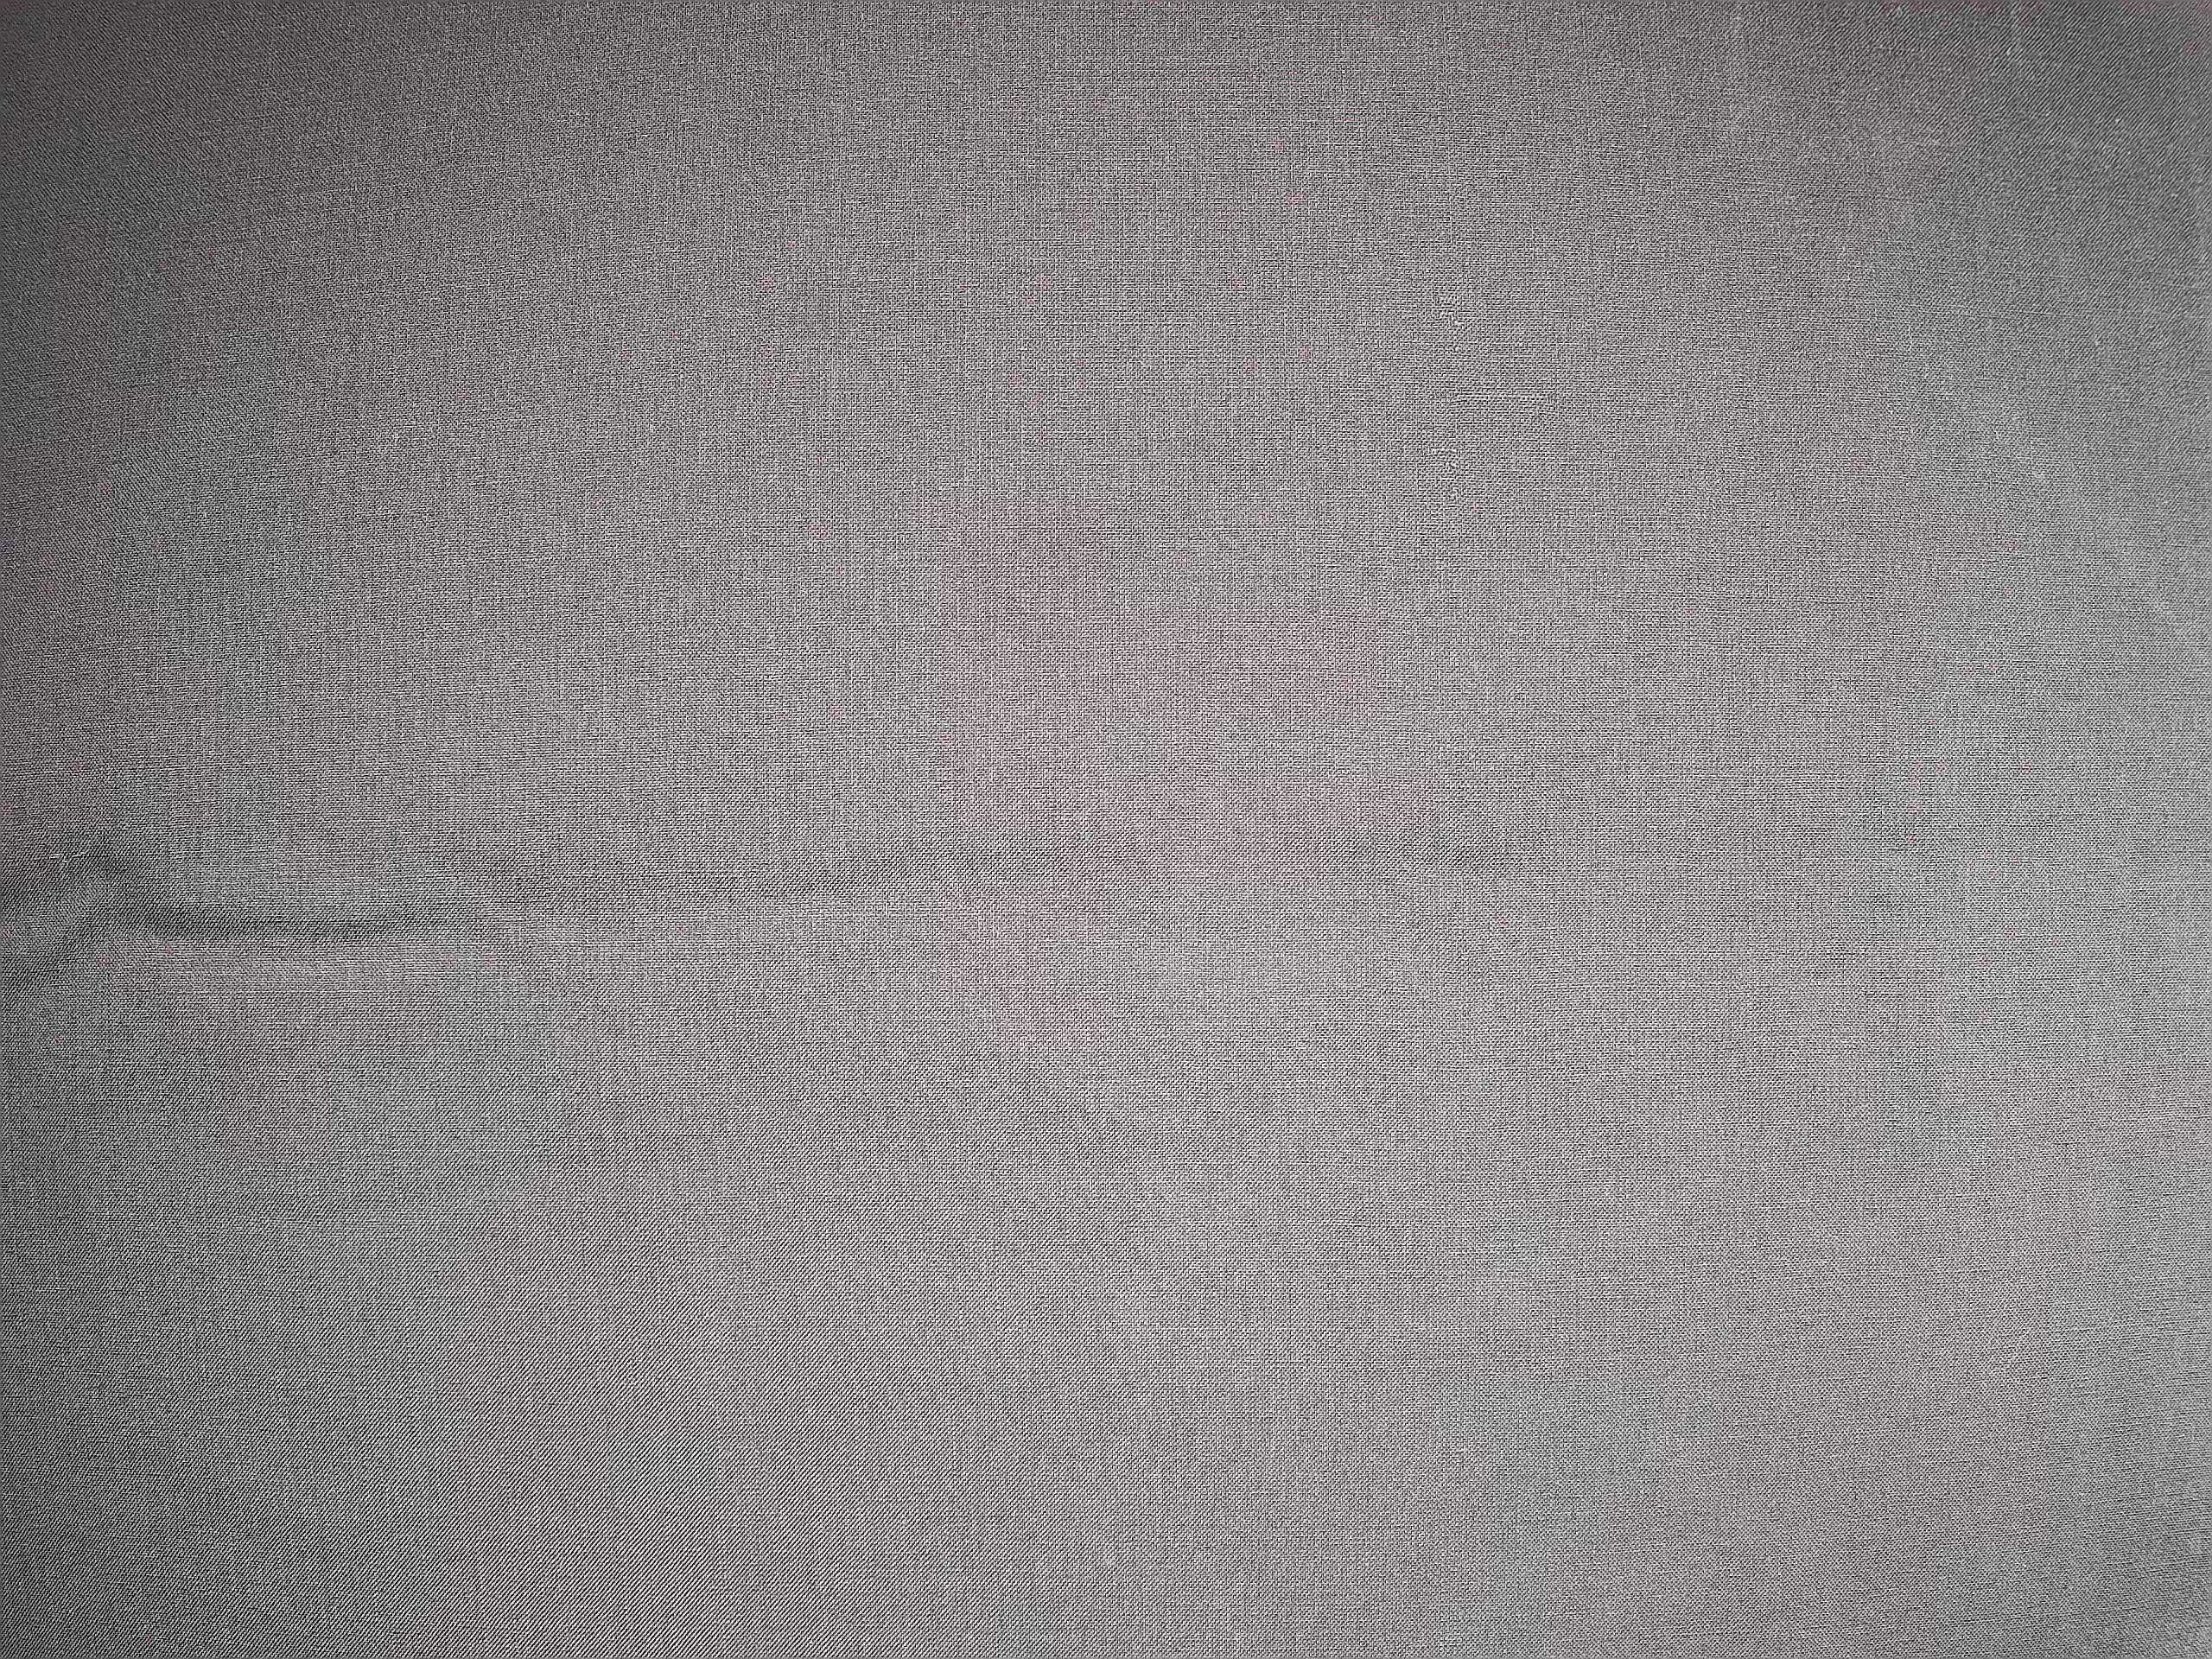jumps: (1421, 268, 1555, 533), (47, 833, 94, 877)
